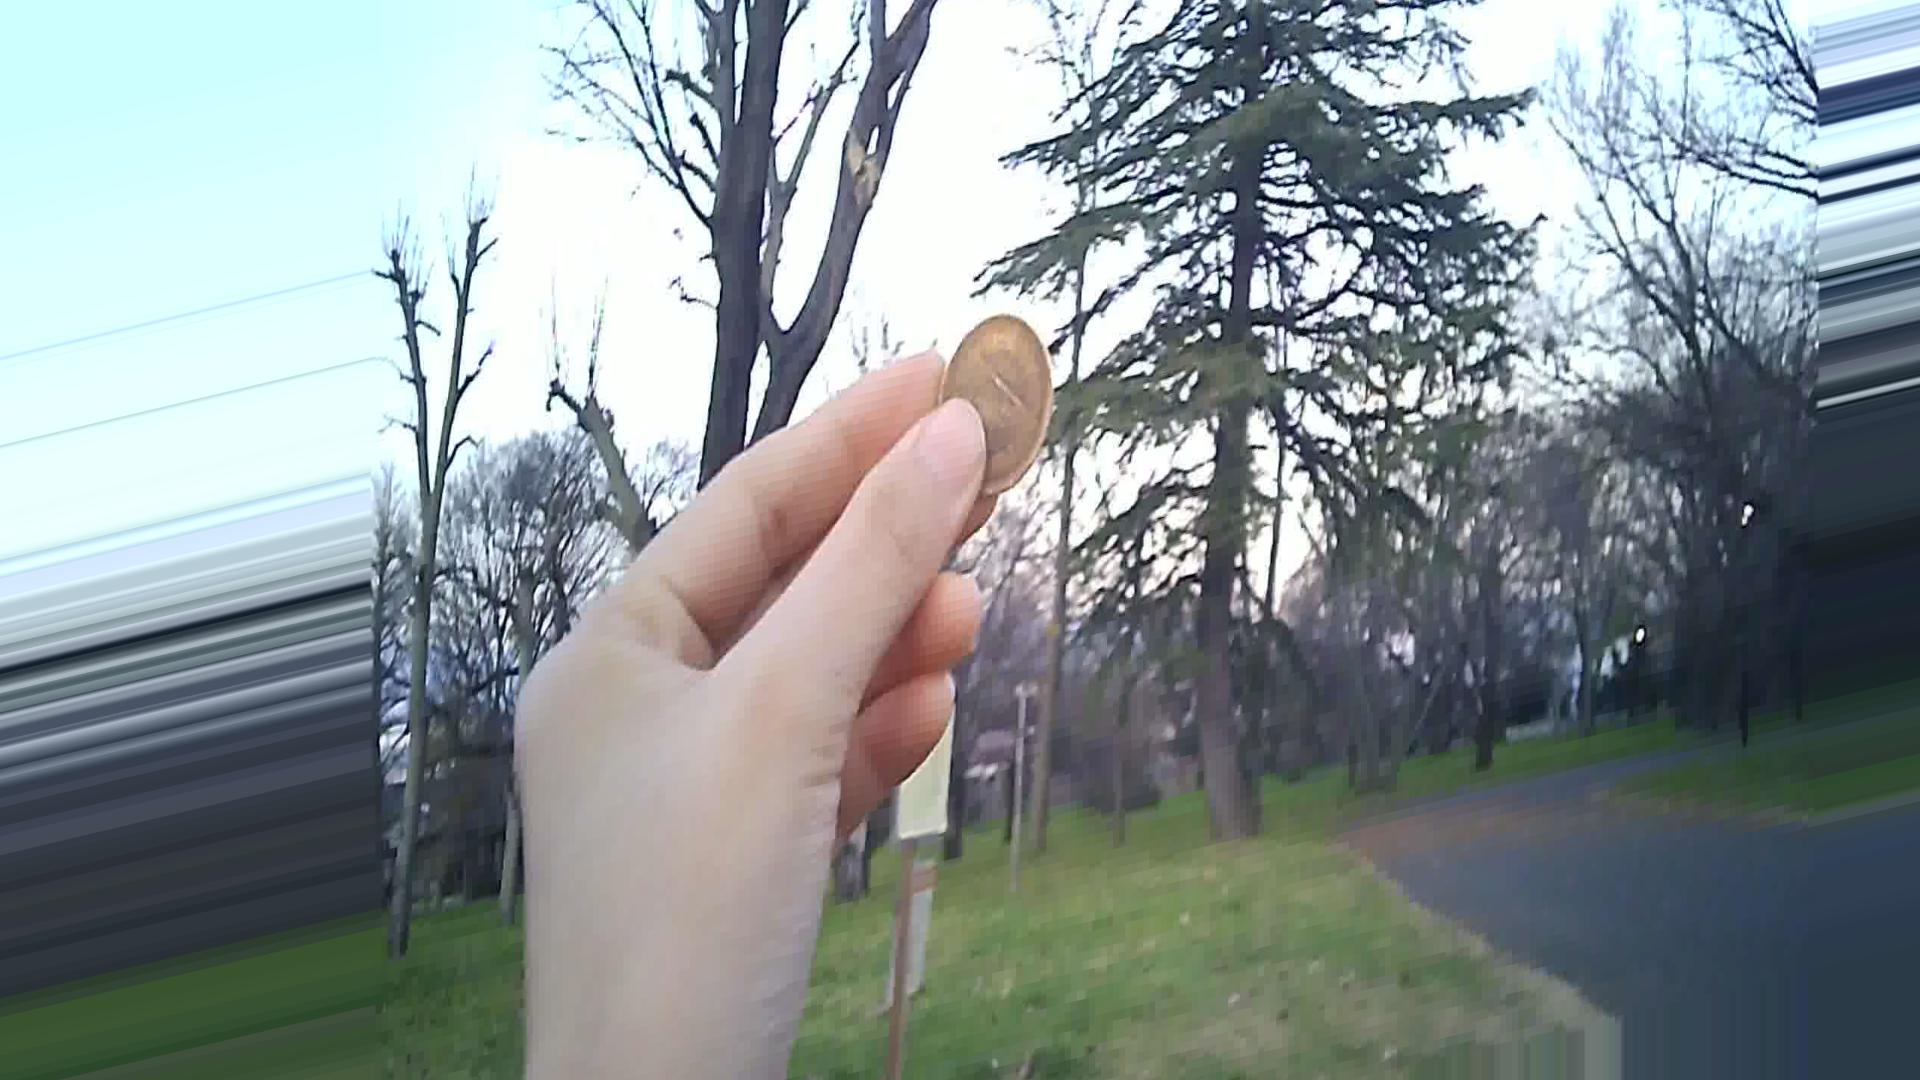10 Yen: (934, 301, 1075, 502)
